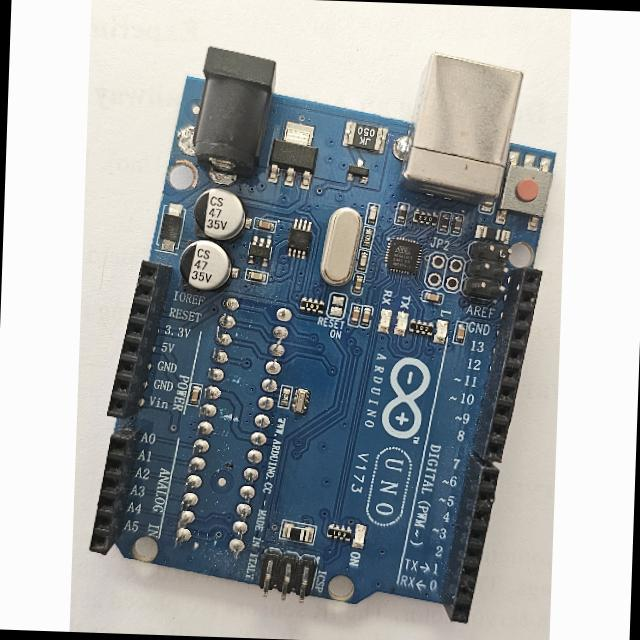missing_atmega: (161, 290, 297, 574)
